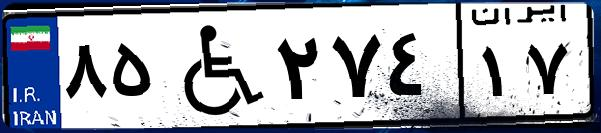1: (475, 38, 525, 113)
2: (270, 28, 330, 110)
4: (385, 28, 445, 110)
5: (110, 28, 158, 98)
7: (330, 28, 385, 110), (525, 38, 570, 115)
8: (57, 26, 110, 100)
ژ (معلولین و جانبازان): (158, 12, 270, 120)
